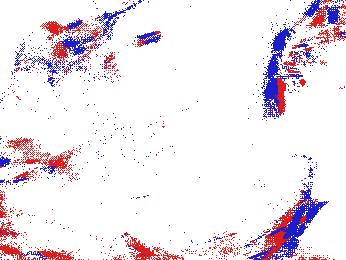X-ray fish: (1, 137, 82, 184)
glassfish: (233, 198, 316, 260)
siberian prawn: (9, 11, 119, 95), (268, 1, 346, 108)
